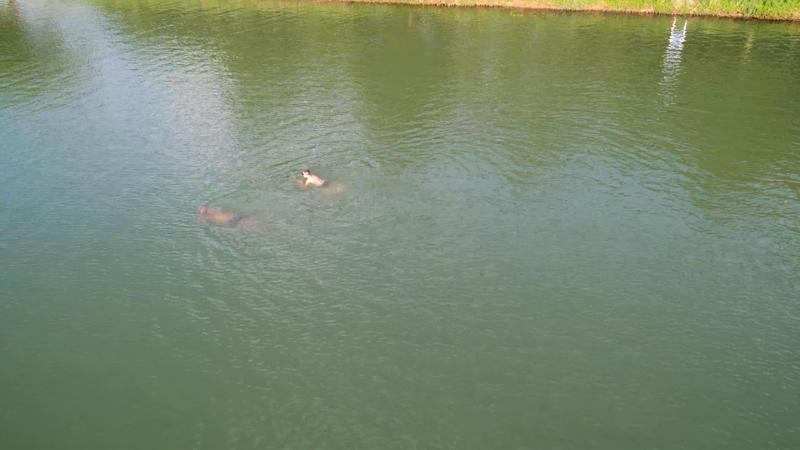swimmers: (193, 203, 255, 231), (296, 166, 345, 196)
